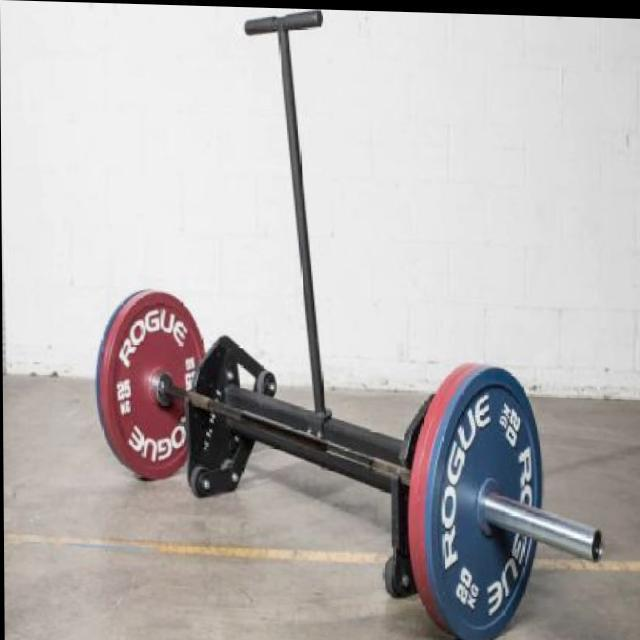barbell: (419, 357, 615, 640)
